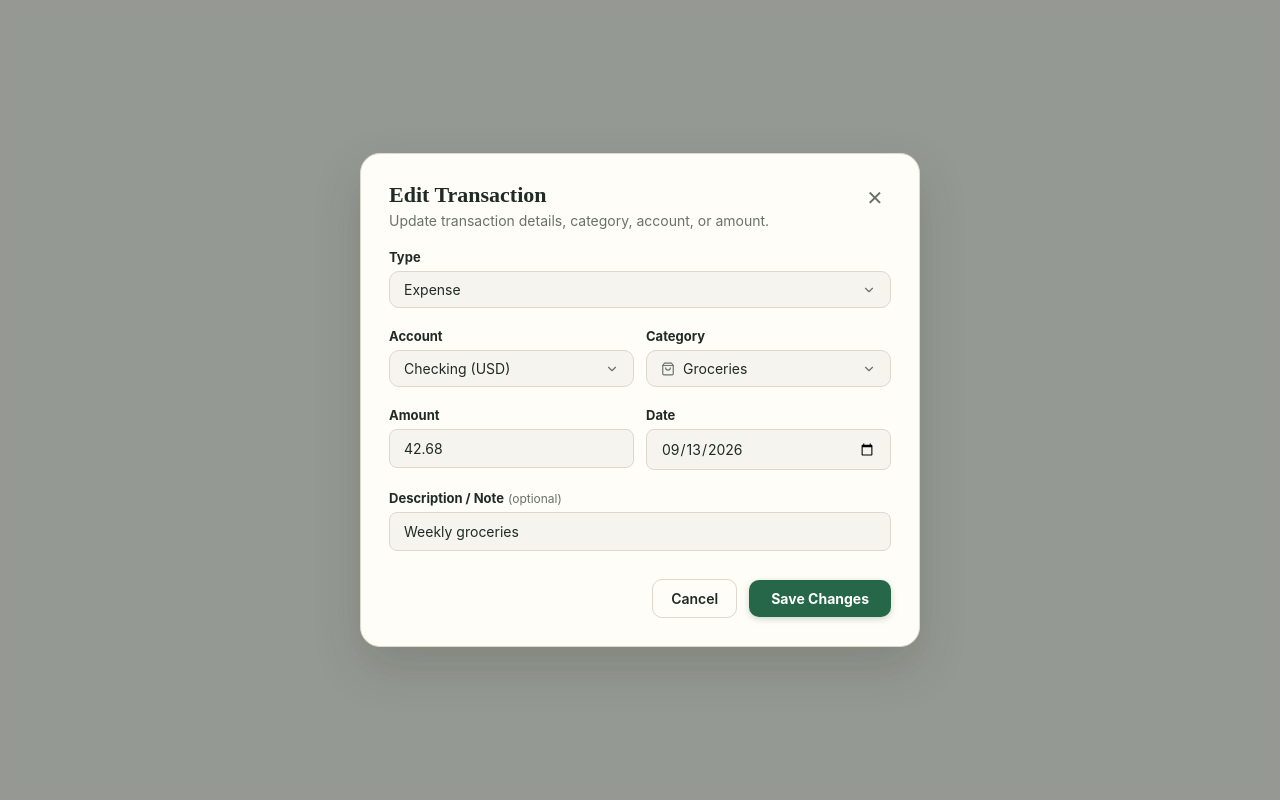
Test: EditFinancialRecordModal › displays server error banner if update fails
Click the button "Save Changes". click: (820, 598)
box: [749, 580, 891, 617]
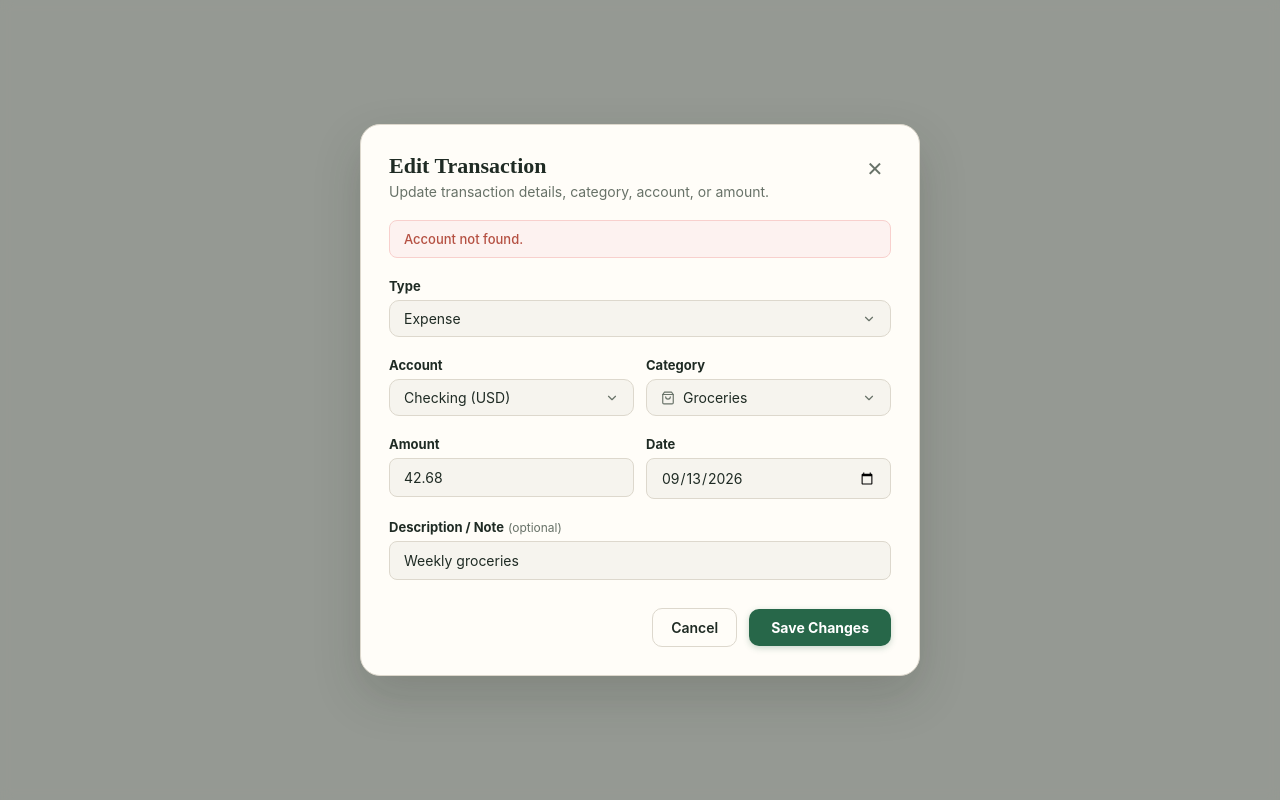
Now the message reads "Account not found.", box [404, 231, 523, 247]
